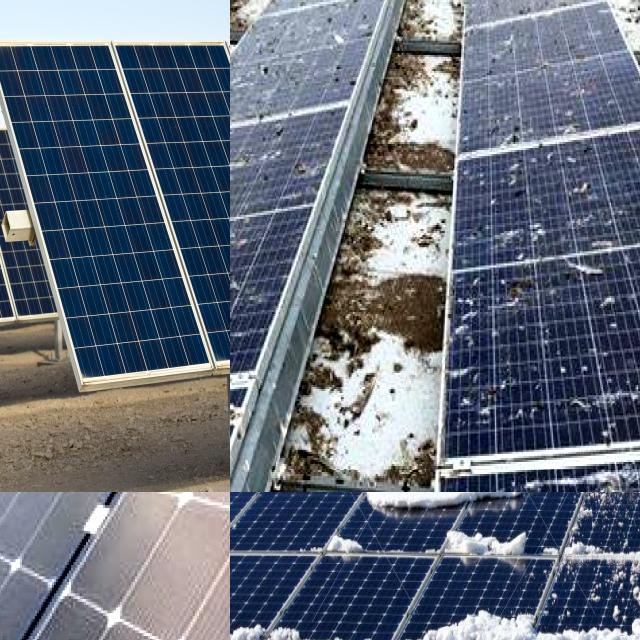bird: (552, 458, 640, 492), (230, 458, 302, 492), (230, 391, 285, 435), (490, 276, 544, 320), (248, 117, 306, 150), (230, 390, 253, 440)
crack: (0, 49, 218, 423), (101, 34, 230, 430), (0, 492, 230, 640), (0, 127, 72, 377), (0, 118, 71, 363), (0, 145, 62, 370)
panel: (558, 492, 640, 591), (230, 603, 417, 640), (354, 492, 430, 581), (416, 592, 551, 640), (230, 492, 345, 547), (462, 492, 553, 550), (439, 520, 542, 567), (324, 527, 394, 574), (561, 492, 616, 551), (575, 603, 640, 640), (236, 492, 350, 512), (437, 492, 463, 544)
